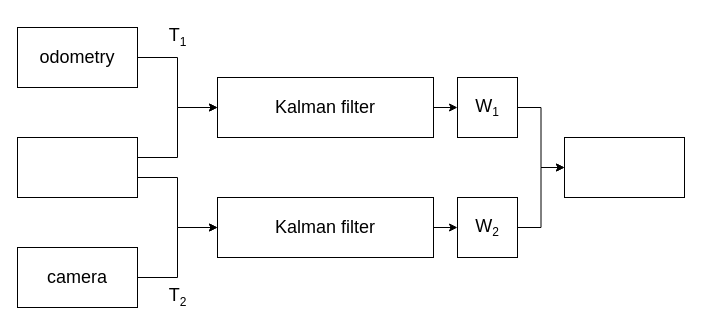
Image size: 702x334. Some labels were removed from this diagram. The shapes that lost their labels are listed below. From the top down, each one's centre as x and y in pixels, then its label:
At pixel 77 167: "system dynamic".
At pixel 624 167: "state estimation".
